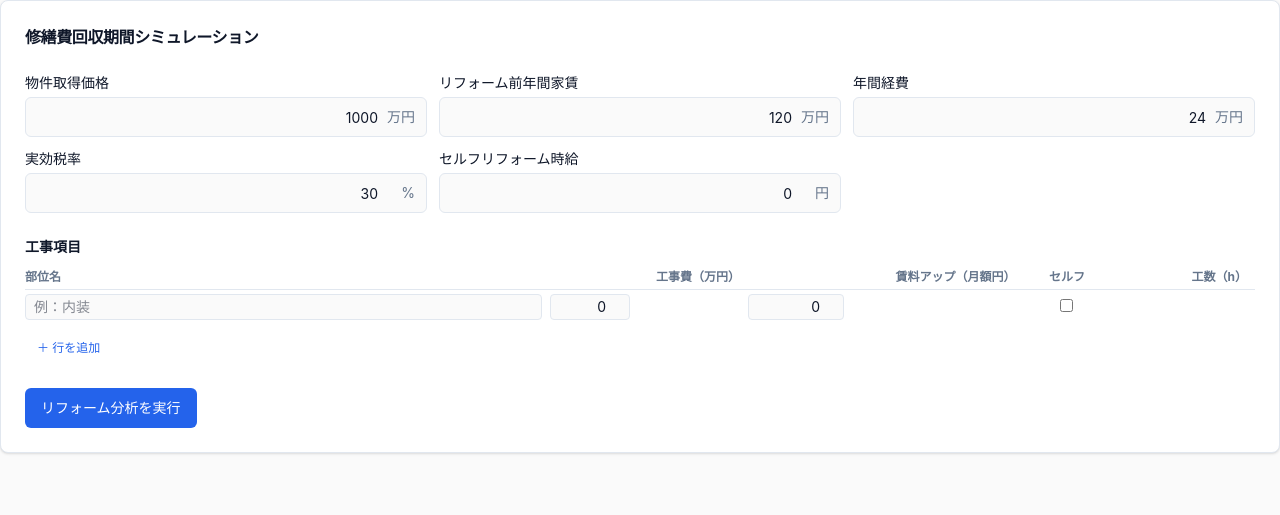
Test: RenovationPanel › APIがError以外を投げた場合はフォールバックメッセージが表示される
Replace the text in the 1st number field with "100": (590, 307) [550,294,630,320]
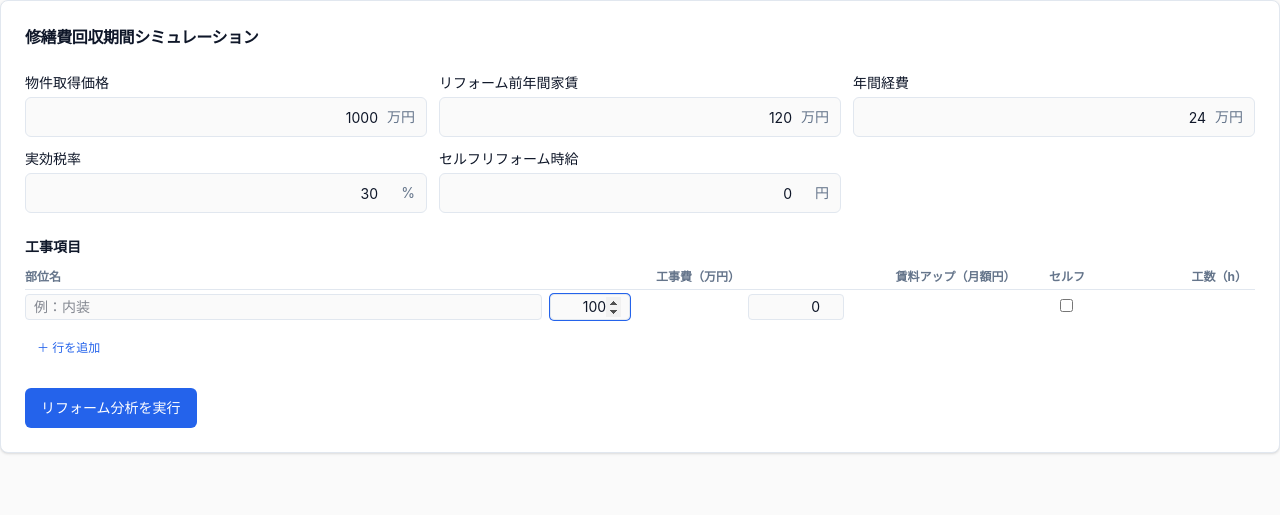
Click the button "リフォーム分析を実行": (111, 408) [25,388,197,428]
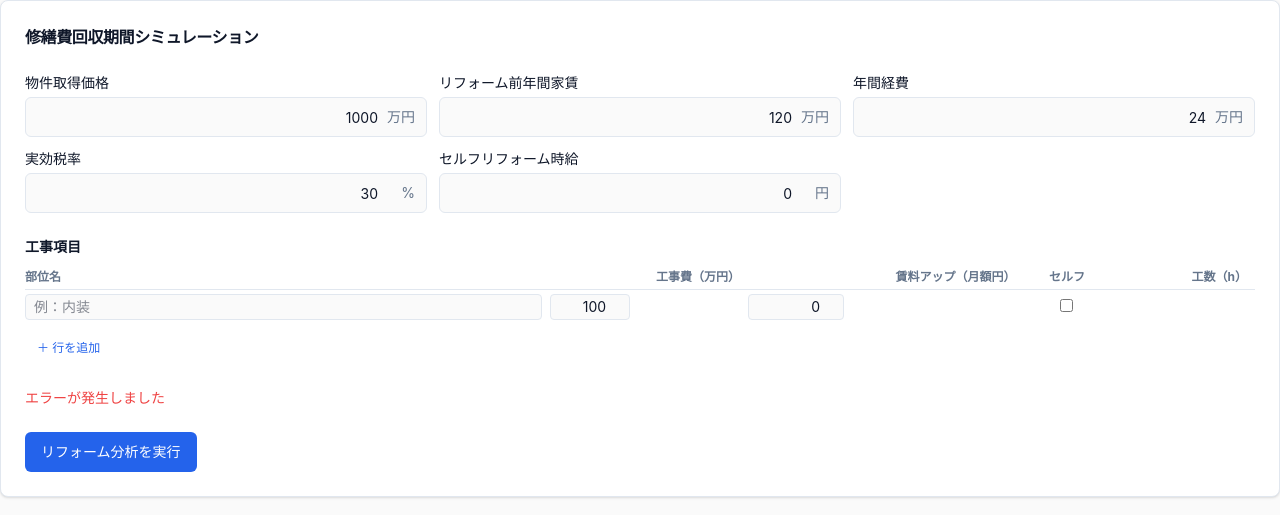
Expected: the text "エラーが発生しました" is shown, [25,389,165,406]
